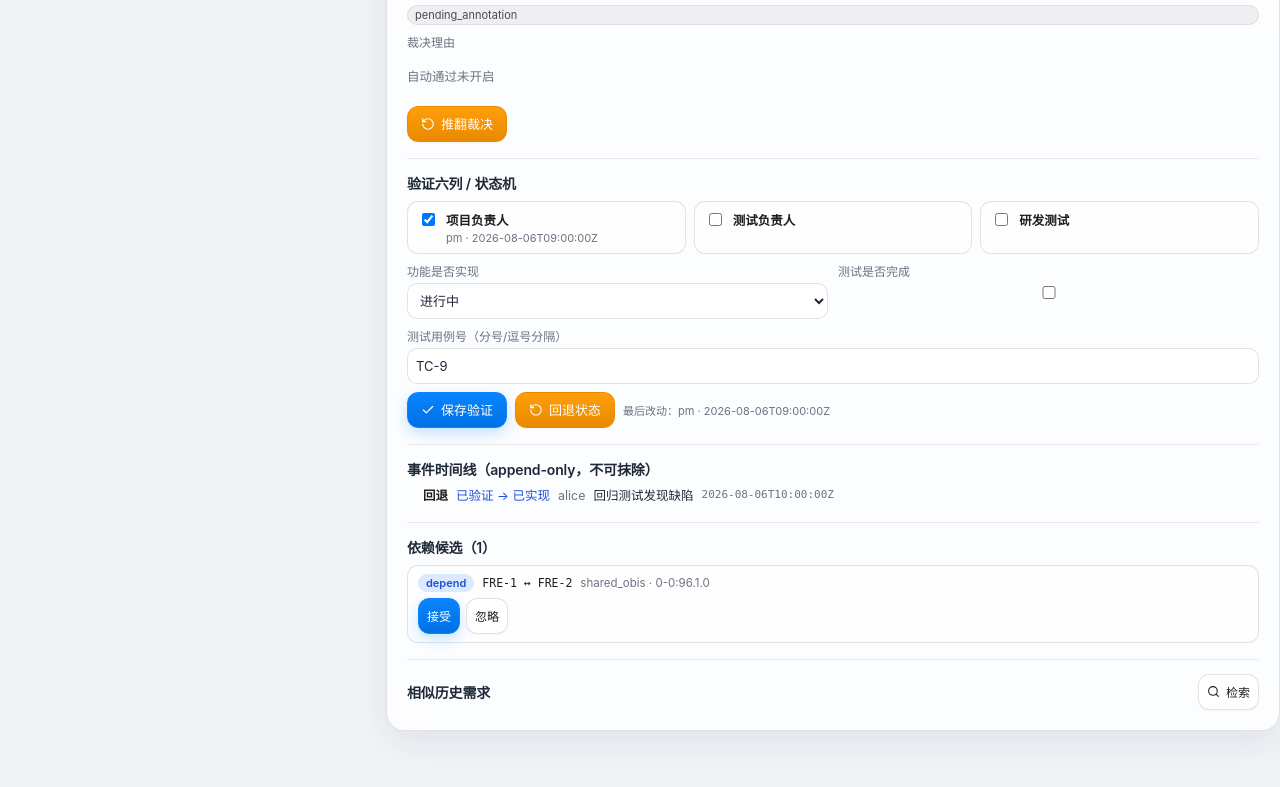
Test: FunctionalReview (WS-F) › shows the backend note when the requirement library is unconfigured (honest 200, not an error)
(page scrolled)
Click the button with test id "run-library-search": [1228, 692] box [1198,674,1259,710]
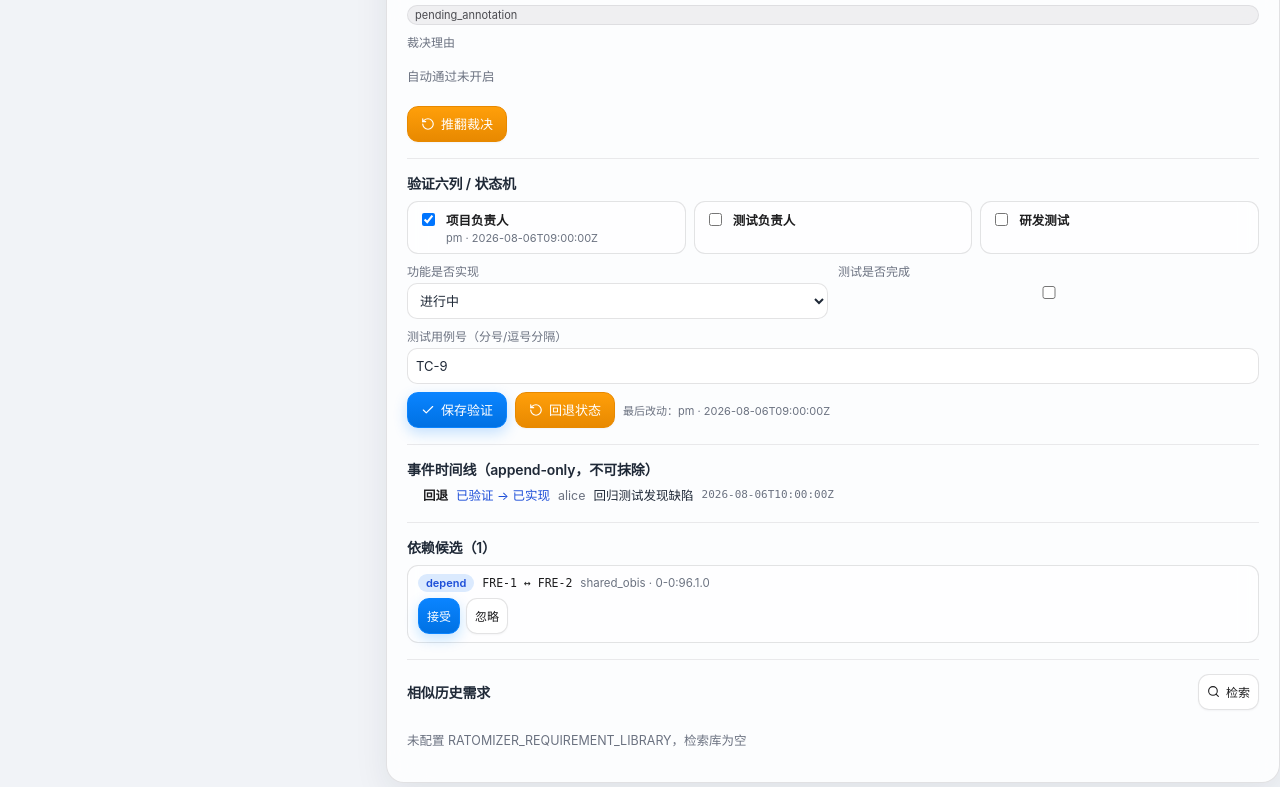
Expected: the element with test id "library-panel" shows "未配置 RATOMIZER_REQUIREMENT_LIBRARY", [407,733,747,748]
